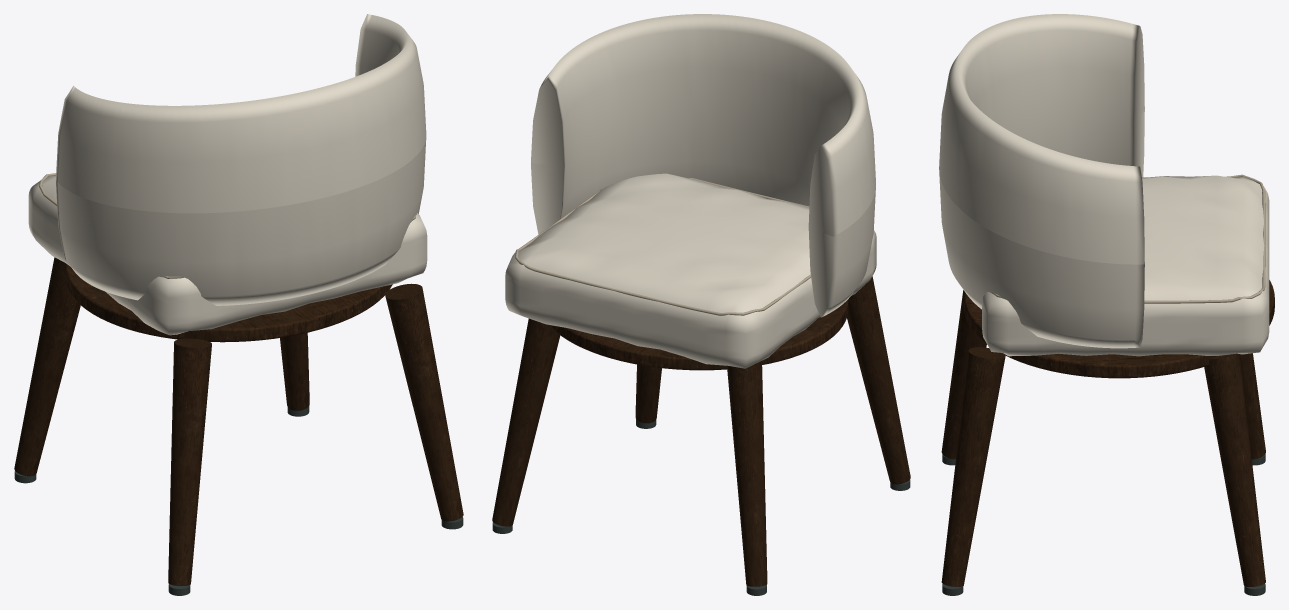
Rendered from dining-wrap-chair.glb.
3 renders of one model, left to right at view 1: azimuth 30°, elevation 25°; view 2: azimuth 150°, elevation 25°; view 3: azimuth 270°, elevation 25°, orthographic. The views are drawn at different scales.
Parts seen in each view (by area): view 1: linen_surfaces, walnut_surfaces, steel_surfaces; view 2: linen_surfaces, walnut_surfaces, welt_surfaces, steel_surfaces; view 3: linen_surfaces, walnut_surfaces, welt_surfaces, steel_surfaces.
Part boxes in pixels (x1,y1,x2,y2): linen_surfaces: [28, 14, 427, 335]; walnut_surfaces: [14, 257, 463, 585]; steel_surfaces: [14, 406, 463, 595]; linen_surfaces: [505, 14, 876, 368]; walnut_surfaces: [492, 276, 910, 586]; welt_surfaces: [515, 178, 810, 315]; steel_surfaces: [492, 419, 910, 595]; linen_surfaces: [939, 14, 1269, 356]; walnut_surfaces: [941, 280, 1274, 586]; welt_surfaces: [992, 174, 1265, 303]; steel_surfaces: [942, 454, 1265, 595].
Bounding box in the file's own units: 0.608 × 0.81 × 0.538.
4 materials, 1 textured.
